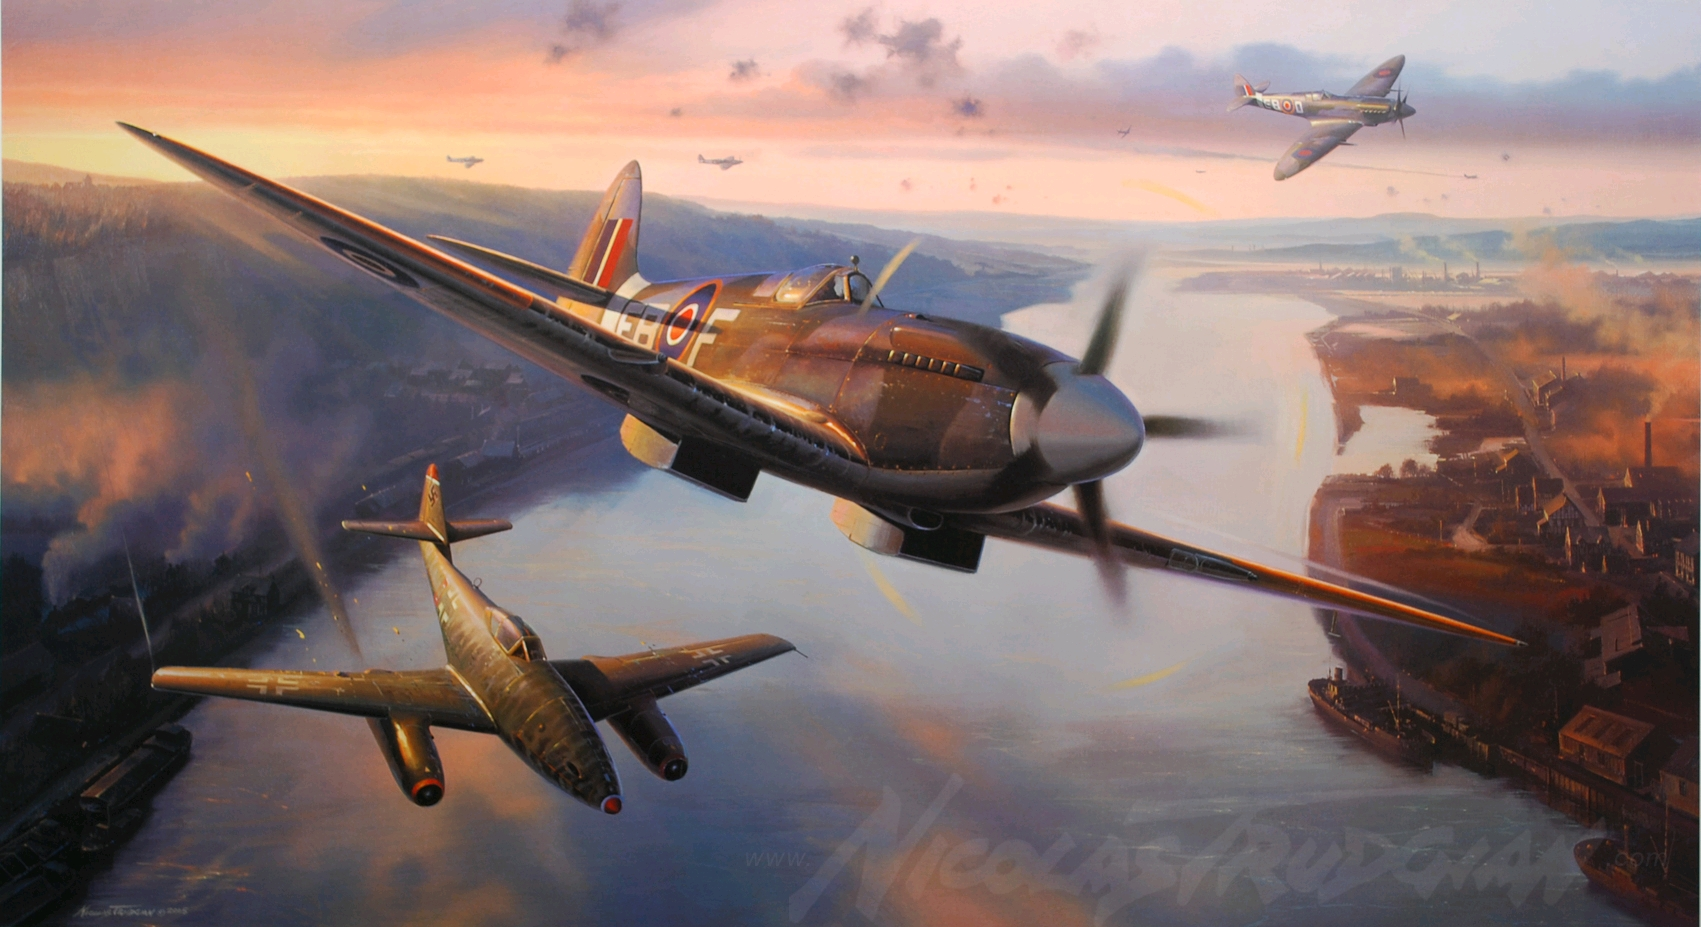airplane: (100, 82, 1532, 656), (148, 437, 806, 815), (1217, 51, 1421, 180), (694, 148, 750, 172), (443, 150, 487, 170)
